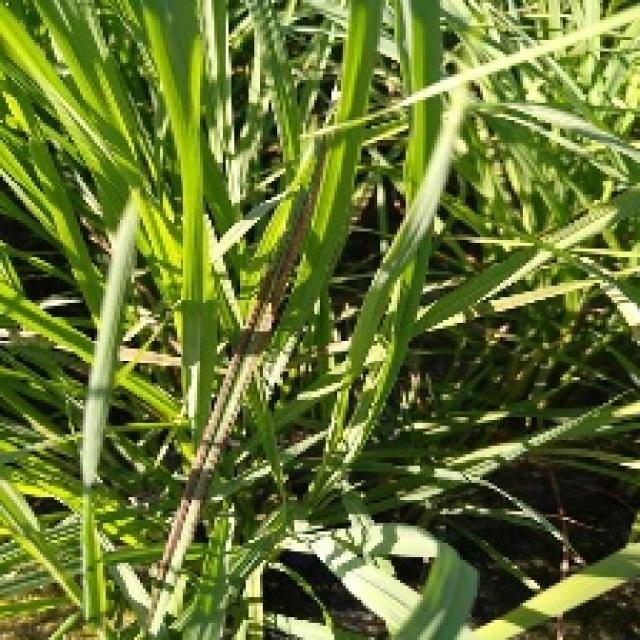Unhealthy: (178, 137, 329, 575), (154, 250, 286, 608)
